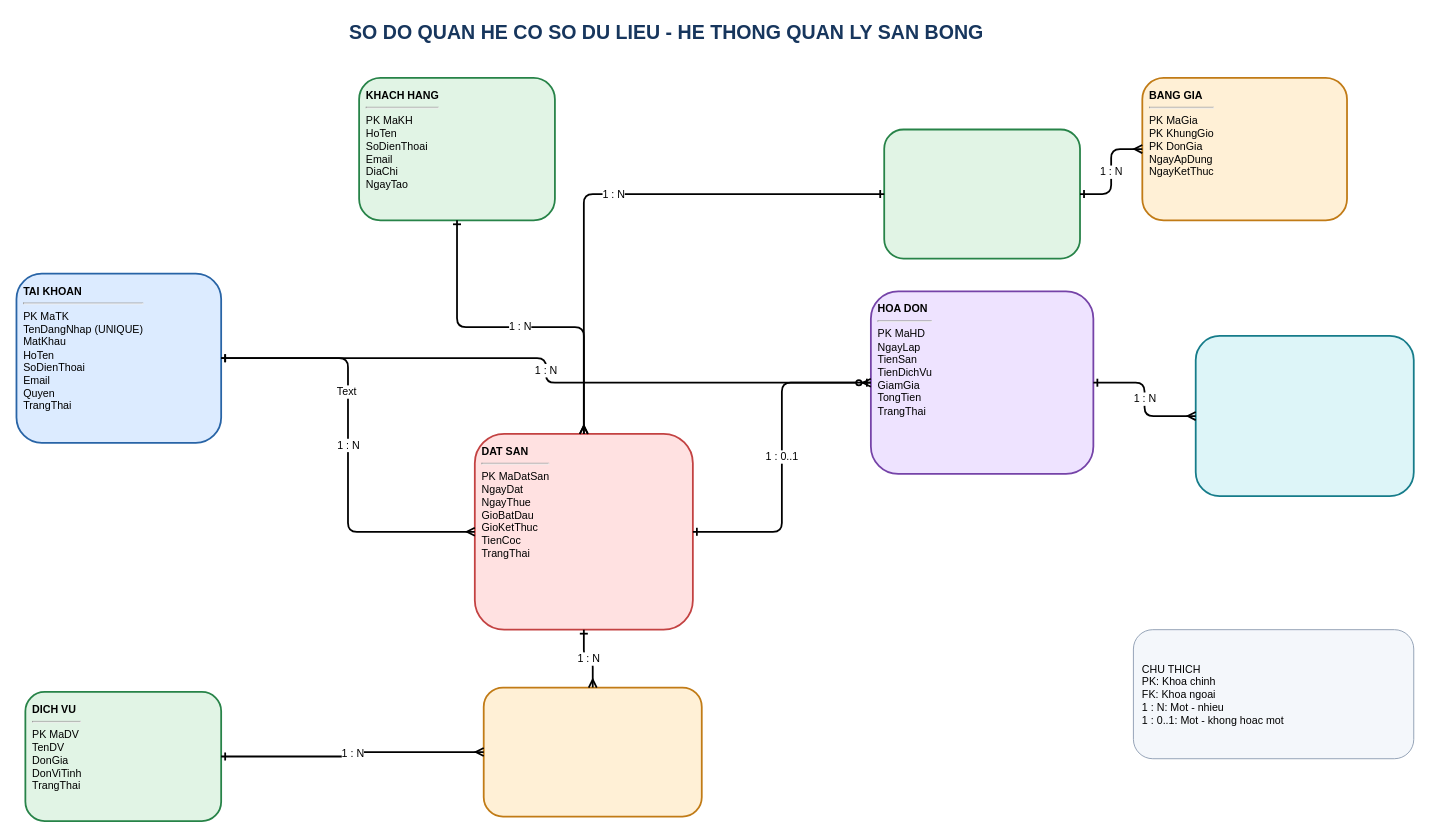
Some shapes in this 1429 by 837 pixel diagram are drawn without their labels. The shapes that lost their labels are listed below. From the top down, each one's centre as x and y in pixels, then its label:
(x=981, y=193): SAN BONG PK MaSan TenSan LoaiSan TrangThai MoTa
(x=1304, y=416): THANH TOAN PK MaTT NgayThanhToan SoTien PhuongThuc MaGiaoDich TrangThai
(x=592, y=751): CHI TIET DICH VU PK, FK MaDatSan PK, FK MaDV SoLuong DonGiaApDung ThanhTien
